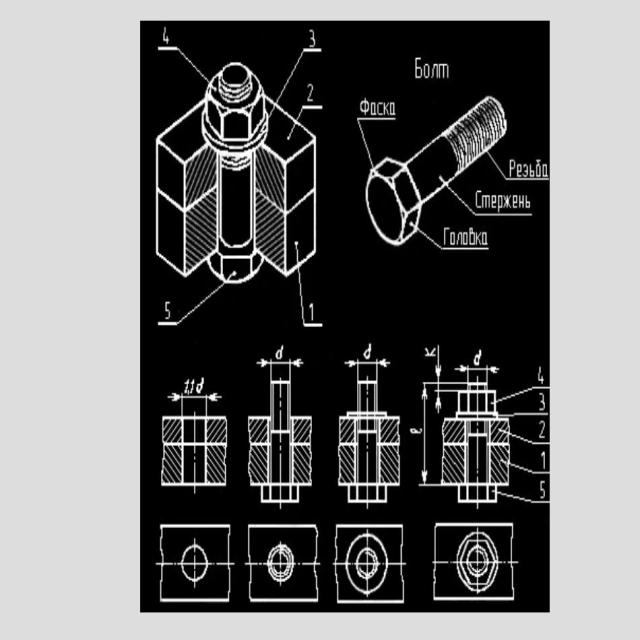marking_line: (156, 46, 207, 94), (255, 358, 310, 379), (421, 386, 431, 484), (291, 47, 327, 74), (456, 365, 507, 383), (343, 361, 395, 377), (168, 391, 226, 404), (435, 344, 443, 413), (296, 103, 325, 121)
numeric: (303, 81, 319, 104), (161, 298, 175, 321), (304, 28, 320, 48), (308, 302, 319, 324), (160, 28, 174, 45), (184, 377, 197, 395)
